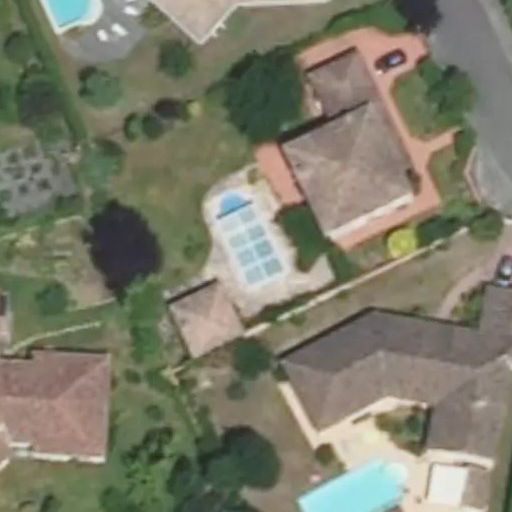pool: (214, 193, 285, 286), (297, 462, 406, 512), (48, 1, 93, 28)
